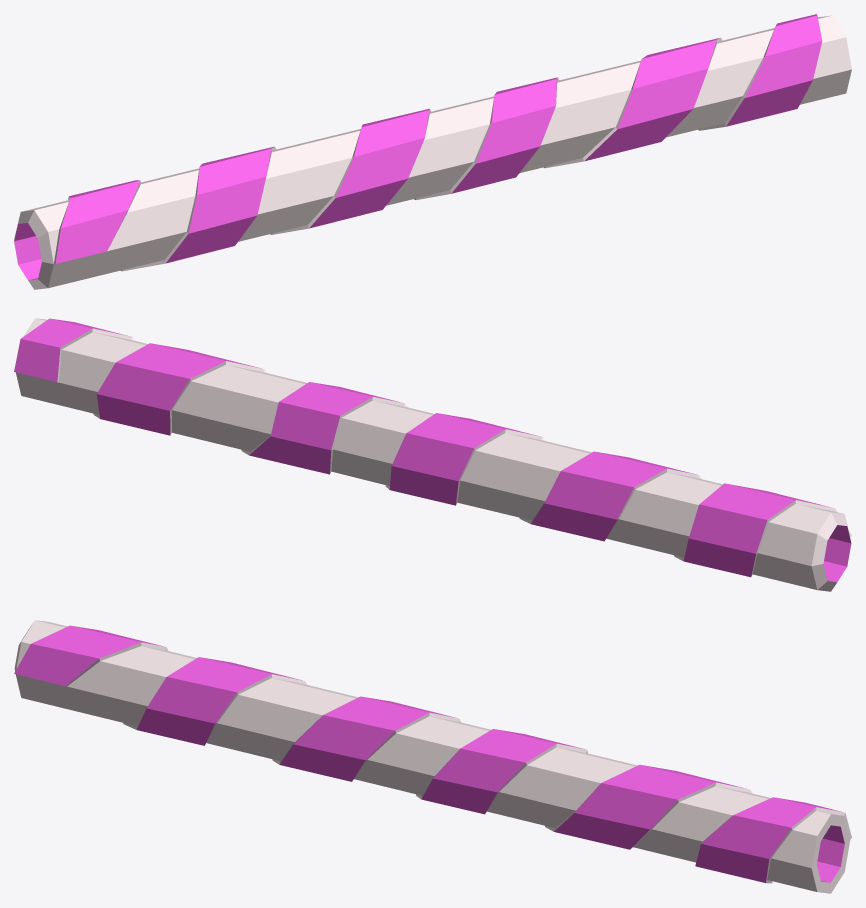
The model's file is stick-o violet.fbx.
The picture shows the model from 3 angles, top to bottom: view 1: azimuth 30°, elevation 25°; view 2: azimuth 150°, elevation 25°; view 3: azimuth 330°, elevation 25°; orthographic projection.
Visible parts, largest first — view 1: Cylinder.001; view 2: Cylinder.001; view 3: Cylinder.001.
Boxes of the visible parts, <box> form: Cylinder.001: <box>14,14,851,289</box>; Cylinder.001: <box>14,318,851,591</box>; Cylinder.001: <box>14,620,851,893</box>.
Bounding box in the file's own units: 3.65 × 0.3776 × 0.3326.
